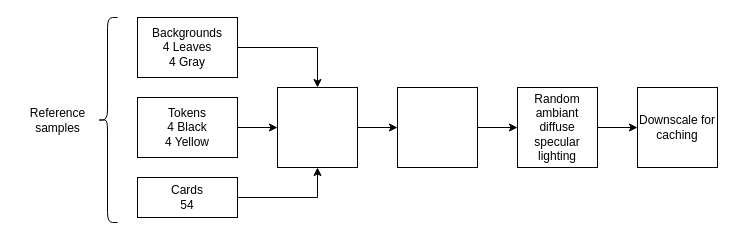
This 735x240 diagram has some shape labels left out. The box of each missing label's shape, as (x1, y1, x2, y2) in pixels:
Alpha blending of RGBA components: (396, 86, 478, 168)
Random selection (Based on train set combinations): (276, 86, 358, 168)
